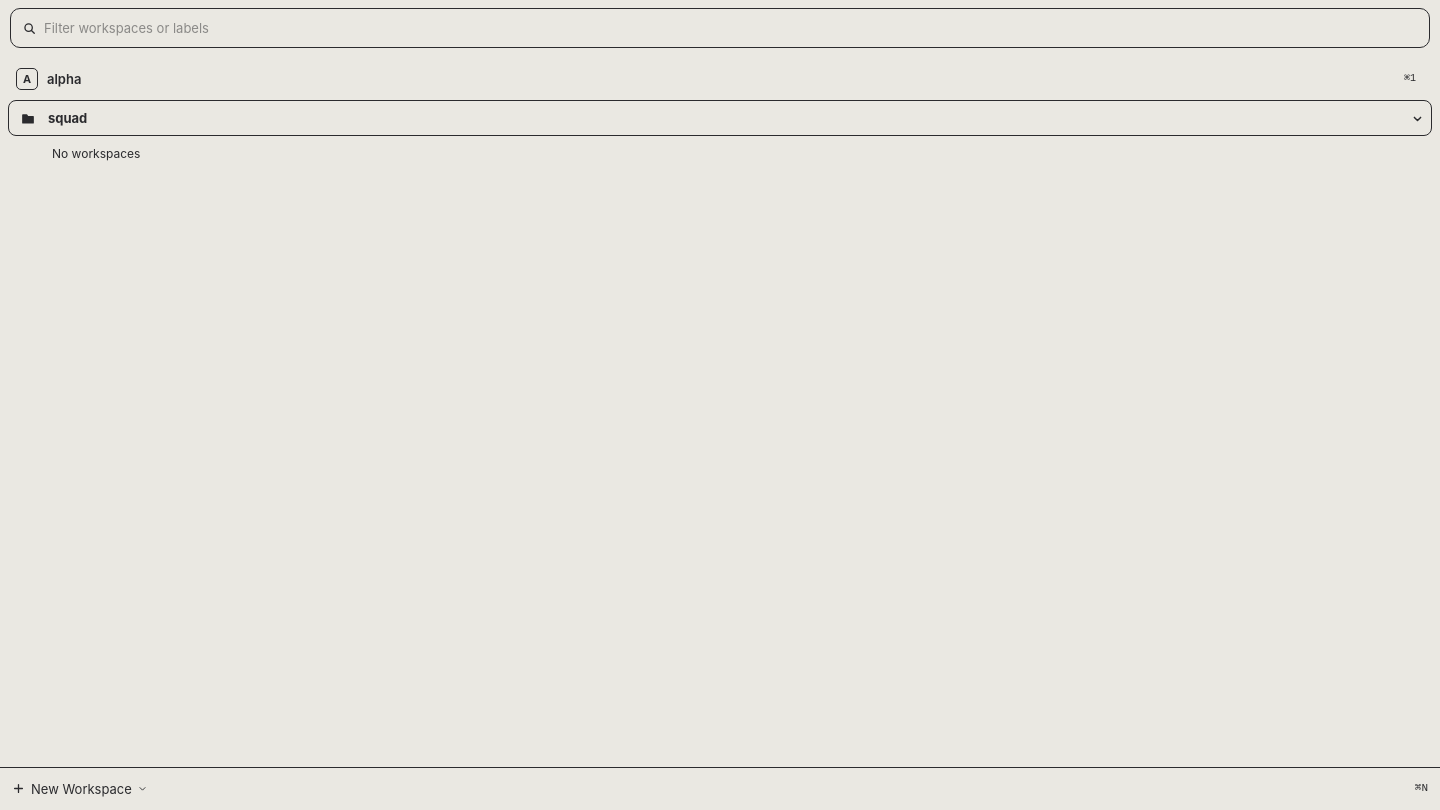
Test: row removal animates (§WS-008) › animates the collapse of an EMPTY group, which used to cut (§WS-008)
The width and height of the screenshot is (1440, 810).
expect the element with test id "group-empty" is shown: met, box [52,146,140,161]
Click the element with test id "group-header".
click(720, 118)  # box [8,100,1432,136]
Wait 20 ms
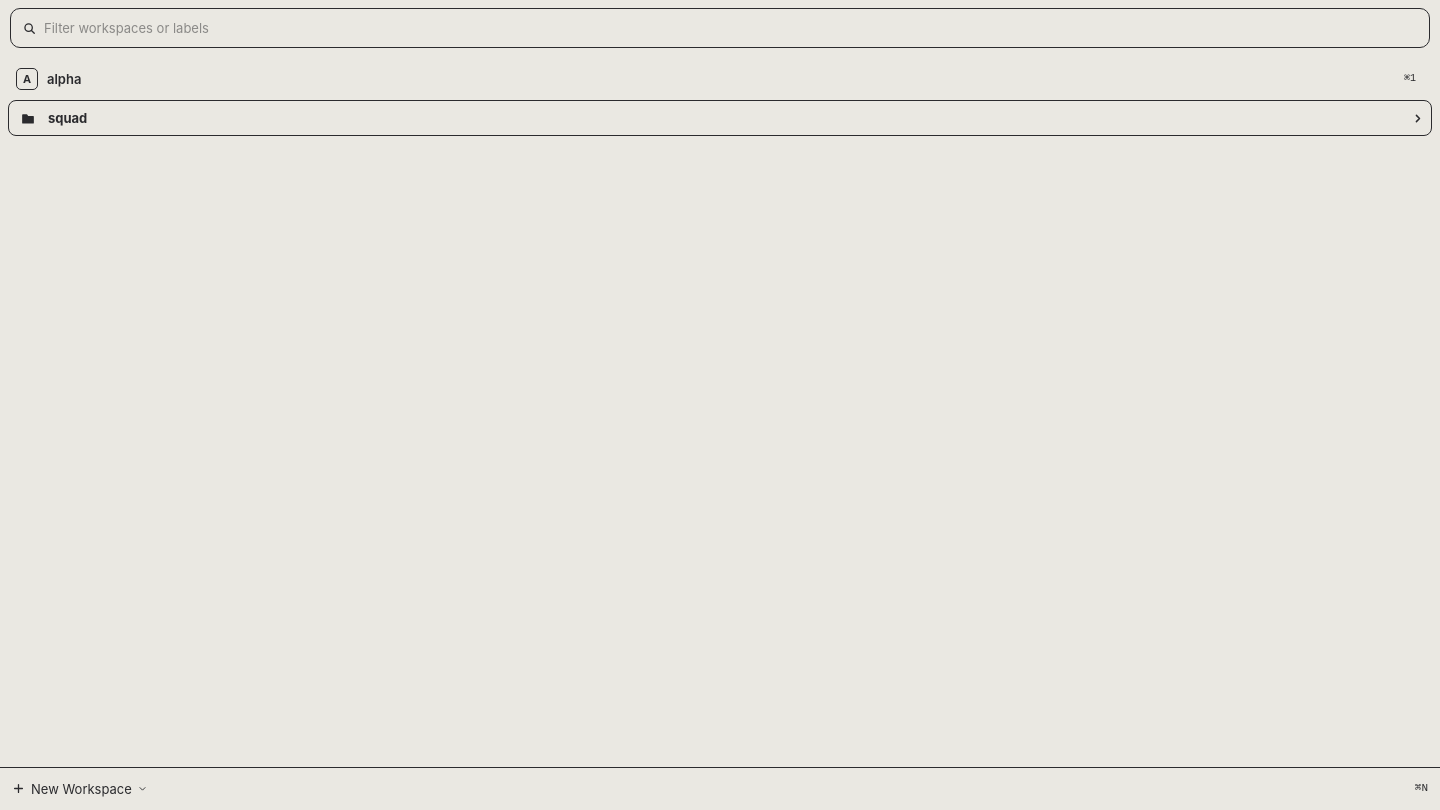
expect the element with test id "group-empty" is gone: met
